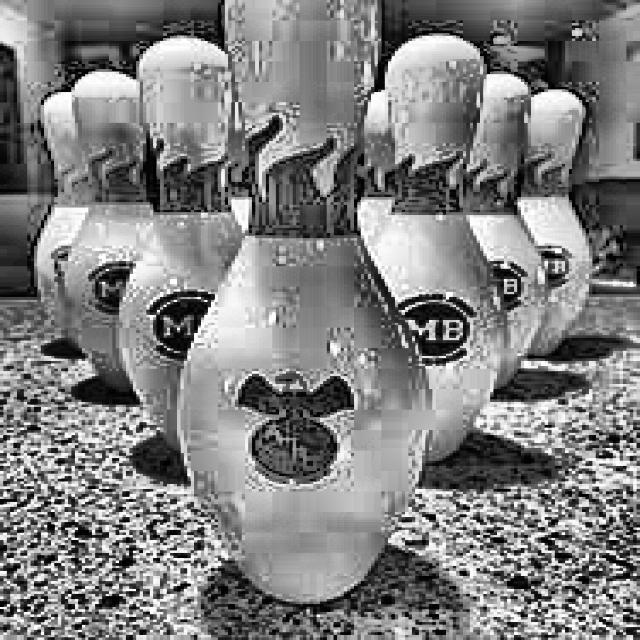bowling-pins: (180, 0, 432, 605), (381, 36, 497, 462), (119, 36, 235, 447), (65, 72, 150, 390), (466, 74, 545, 385), (521, 90, 592, 355), (34, 92, 89, 334)
